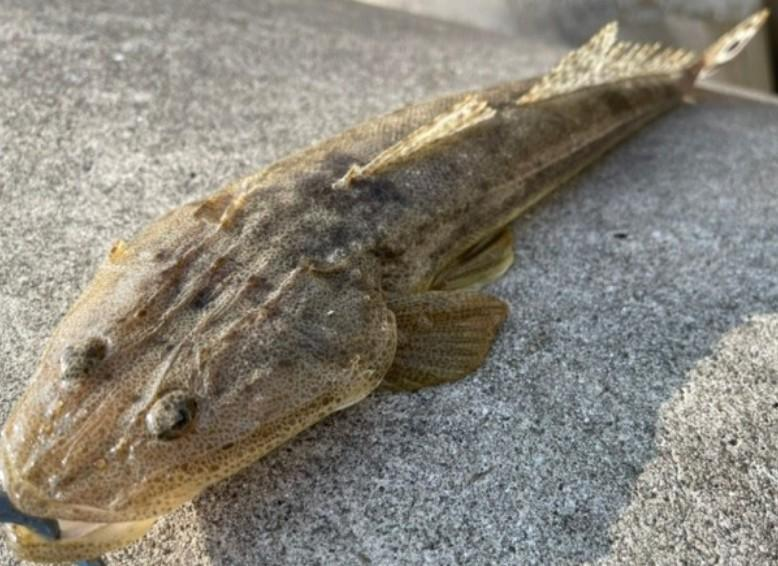fish: (0, 8, 771, 565)
